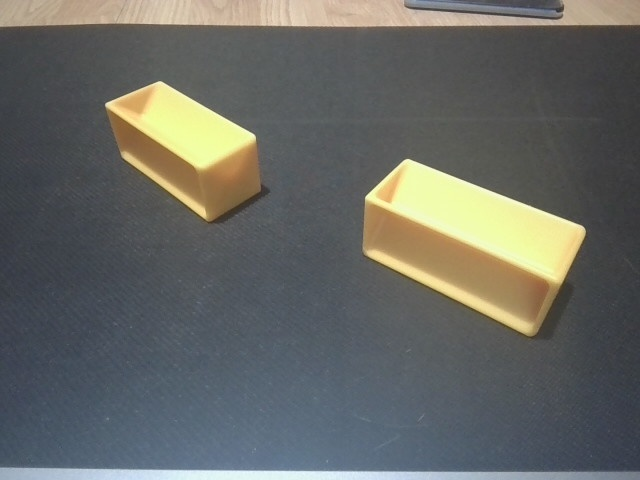YellowSample: (357, 152, 592, 345), (101, 78, 266, 226)
